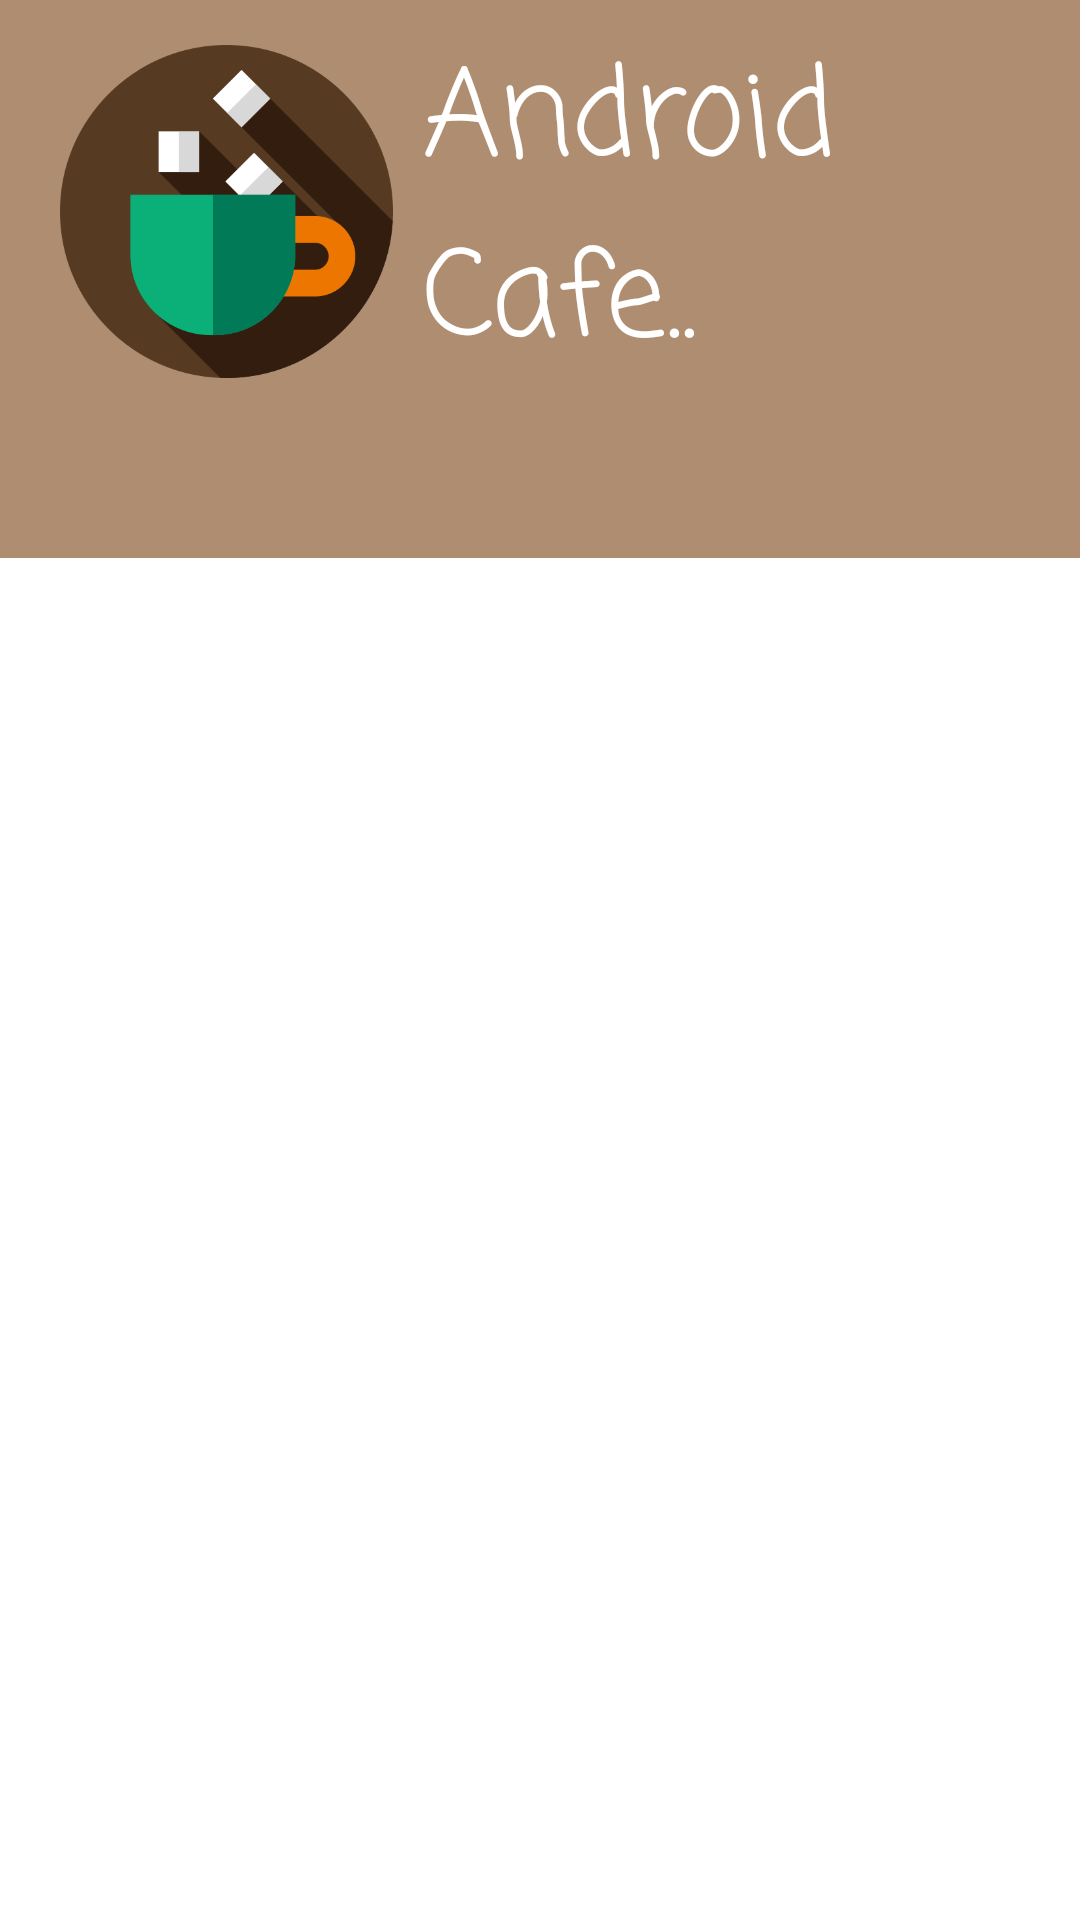

Screen size 1080*1920. Icon name, then its center in pixels as (x=x, y=y):
sugar: (x=226, y=211)
